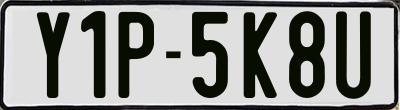1: (80, 9, 110, 100)
5: (190, 11, 232, 101)
8: (287, 10, 329, 98)
K: (242, 12, 275, 104)
P: (118, 10, 158, 97)
U: (334, 9, 371, 97)
Y: (34, 9, 67, 95)
